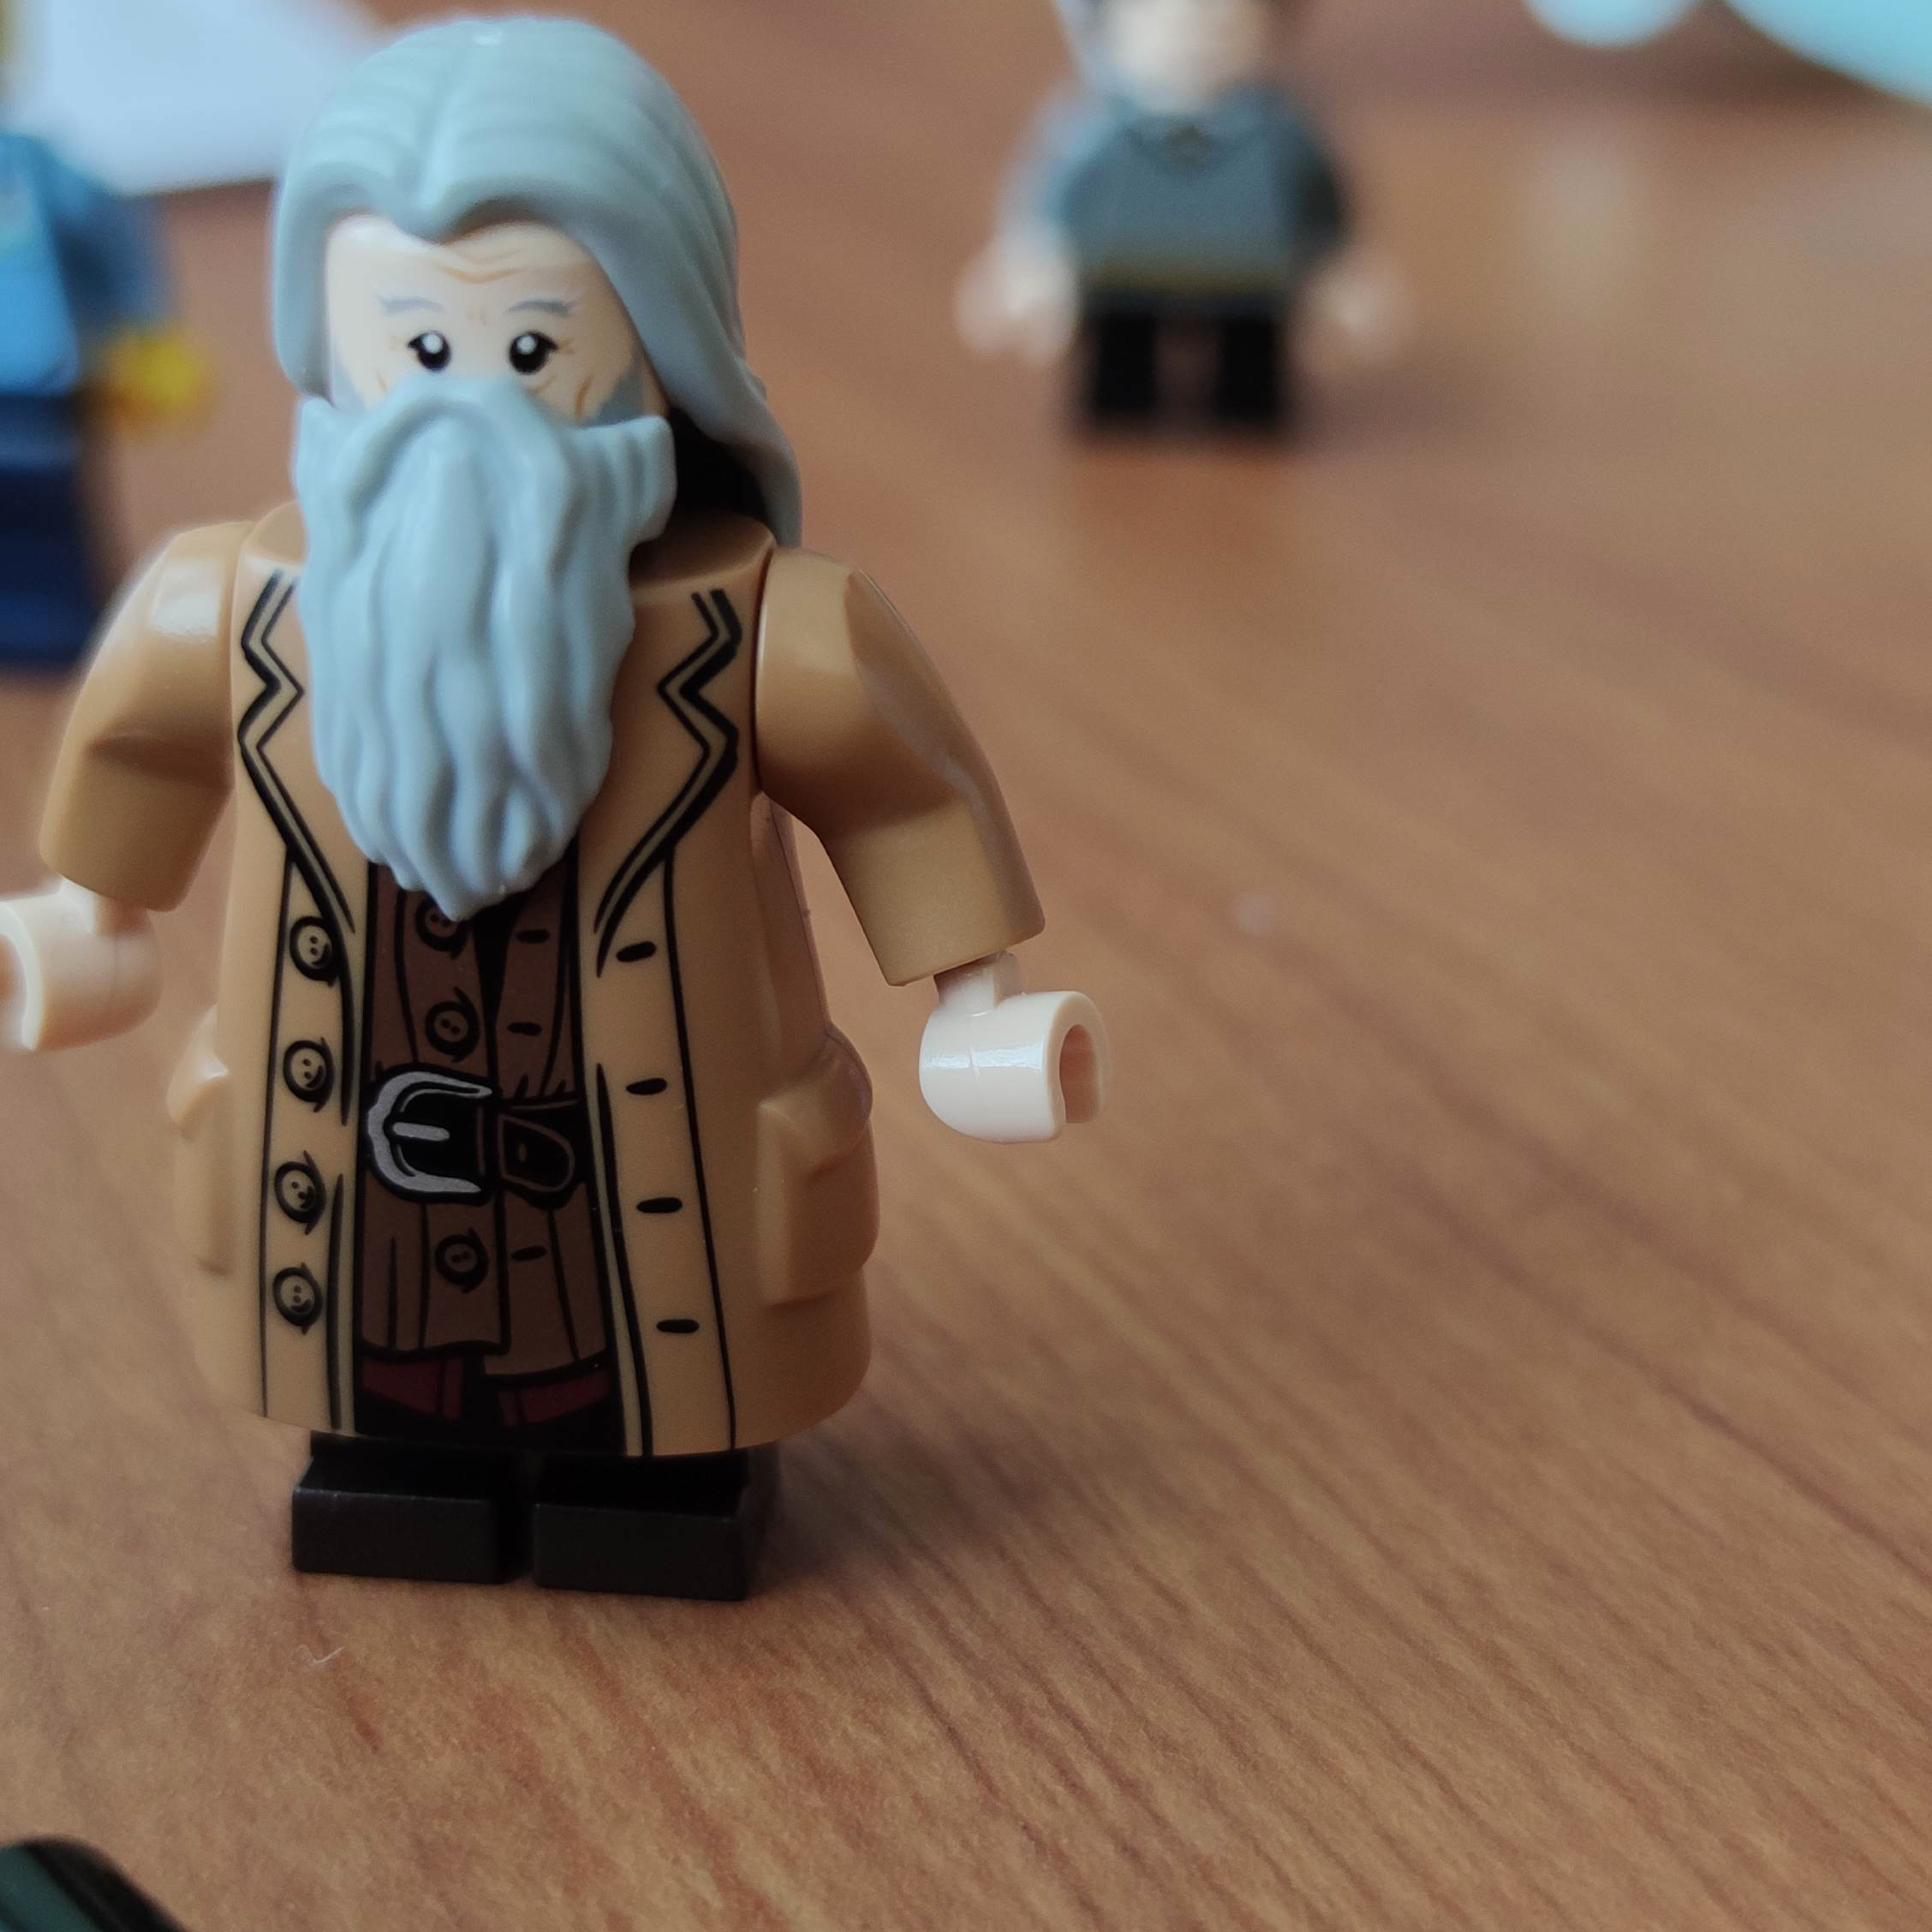lego: (0, 14, 1111, 1606)
